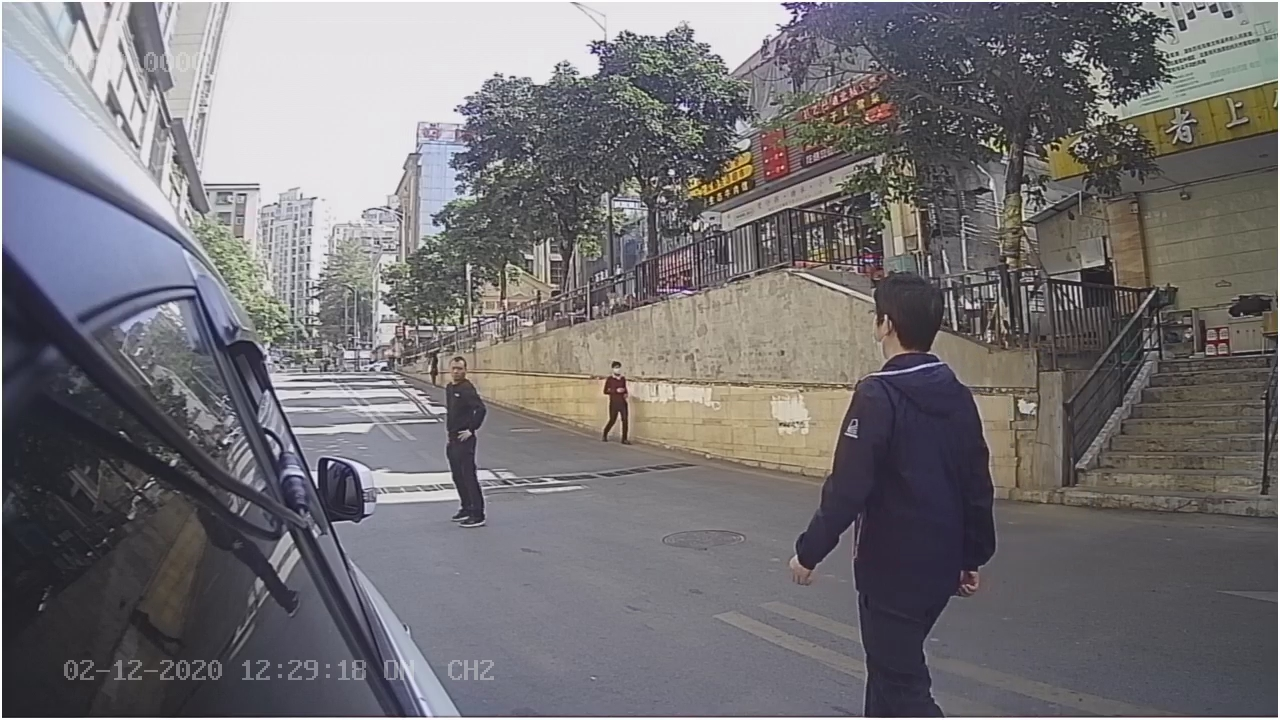person: (784, 271, 1023, 595), (429, 350, 502, 536)
